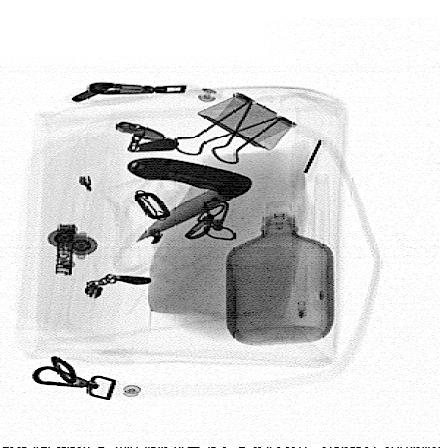Knife: (125, 155, 255, 245)
